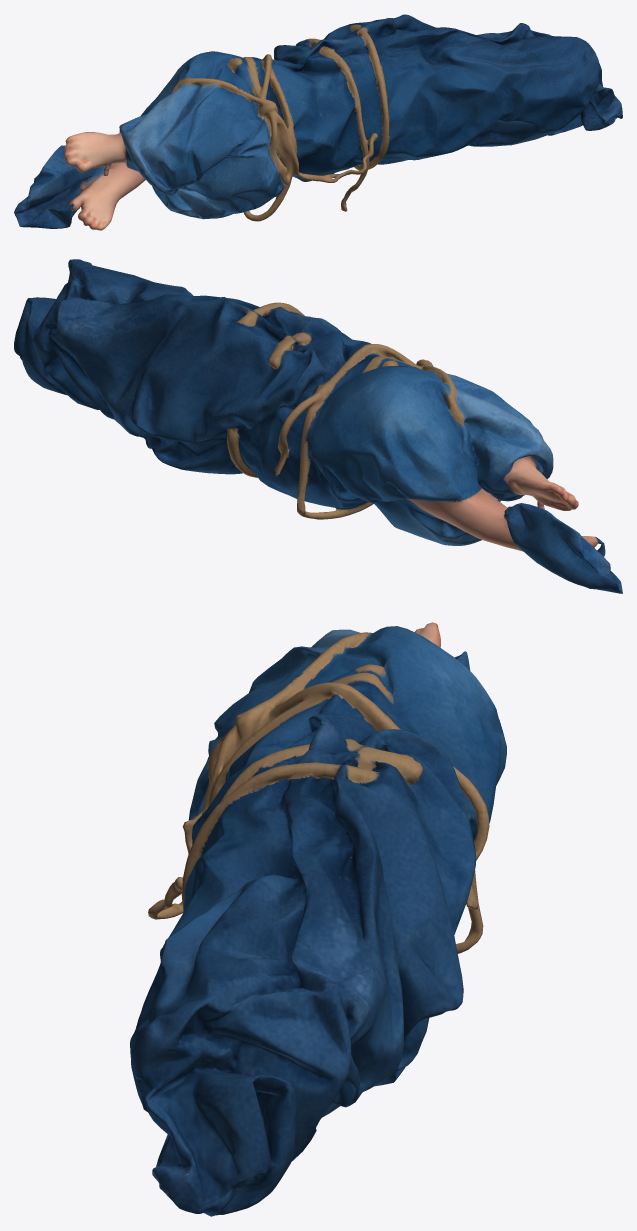
Rendered from body.glb.
3 views of the same model, one above another, from view 1: azimuth 30°, elevation 25°; view 2: azimuth 150°, elevation 25°; view 3: azimuth 270°, elevation 25° (orthographic). The views are drawn at different scales.
Bounding box in the file's own units: 0.9057 × 0.2554 × 0.2716.
1 material, 1 textured.
